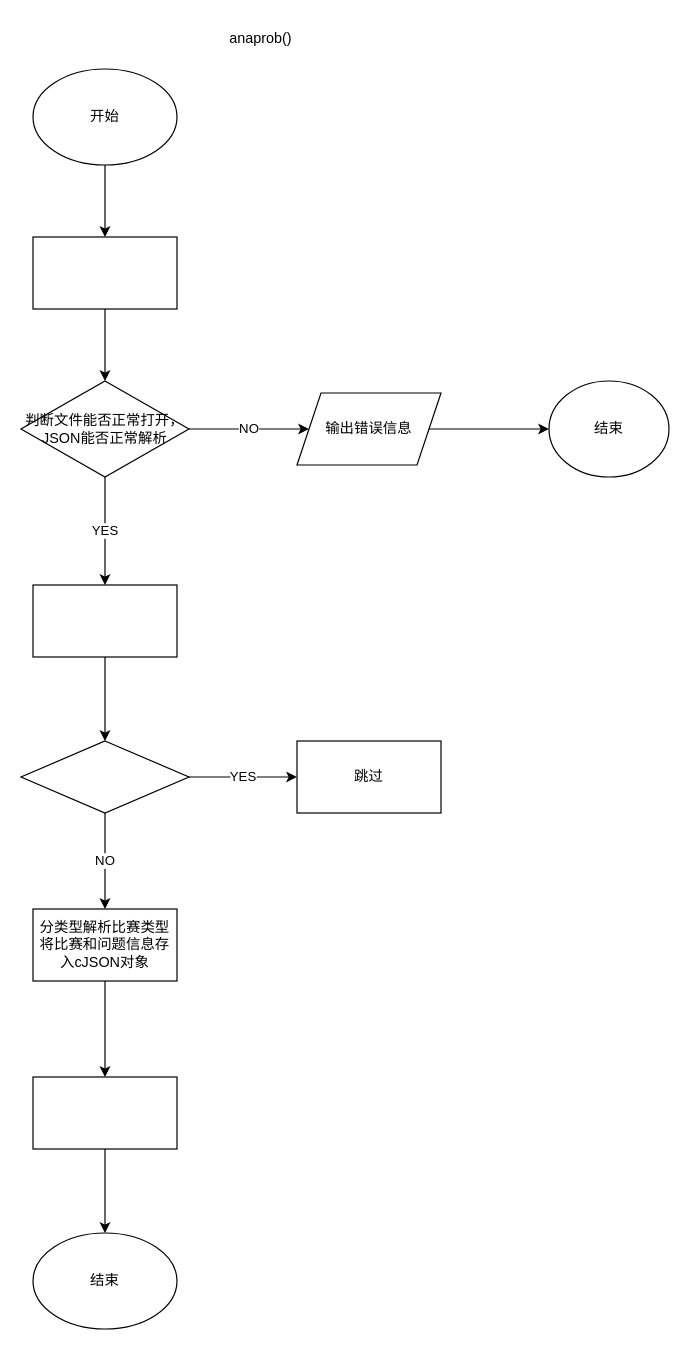
This 690x1350 diagram has some shape labels left out. Each missing label, with the centre of its shape:
将对象写入web/xxx_stats.json: (104,1112)
读取web/data.json 获取要分析的比赛列表: (104,272)
返回数据为空: (104,776)
进入getcontprob()调用getconteststanding分析每场比赛数据: (104,620)
